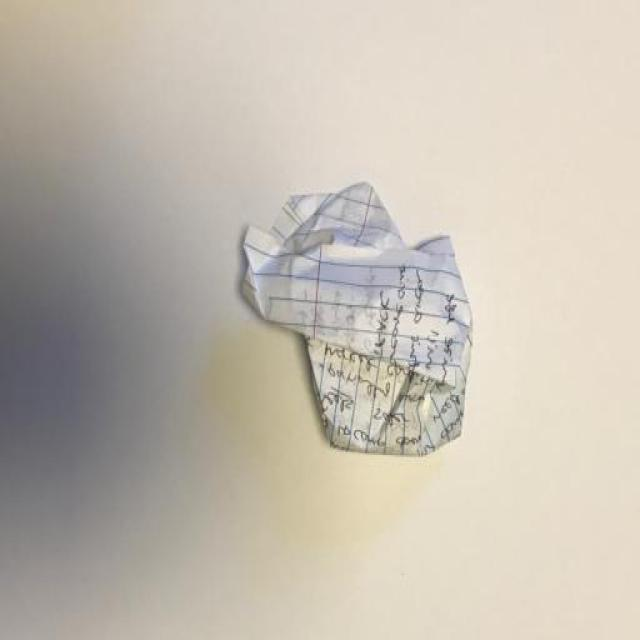paper: (230, 162, 500, 470)
